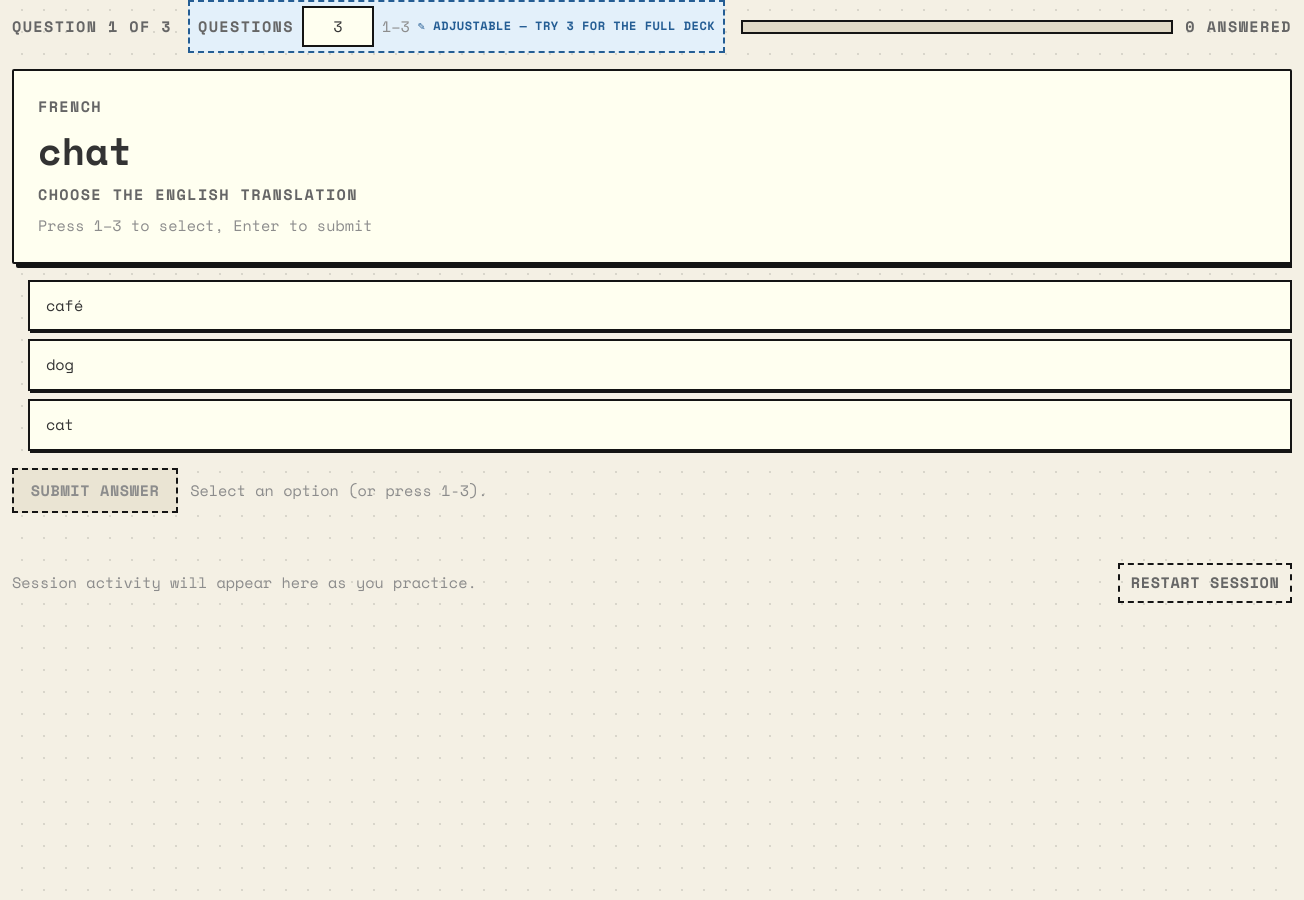
Test case: QuizMode › a wrong answer scores zero and reveals the correct option
The image size is (1304, 900).
Click the button "café" at (65, 305), box [28,280,1292,332]
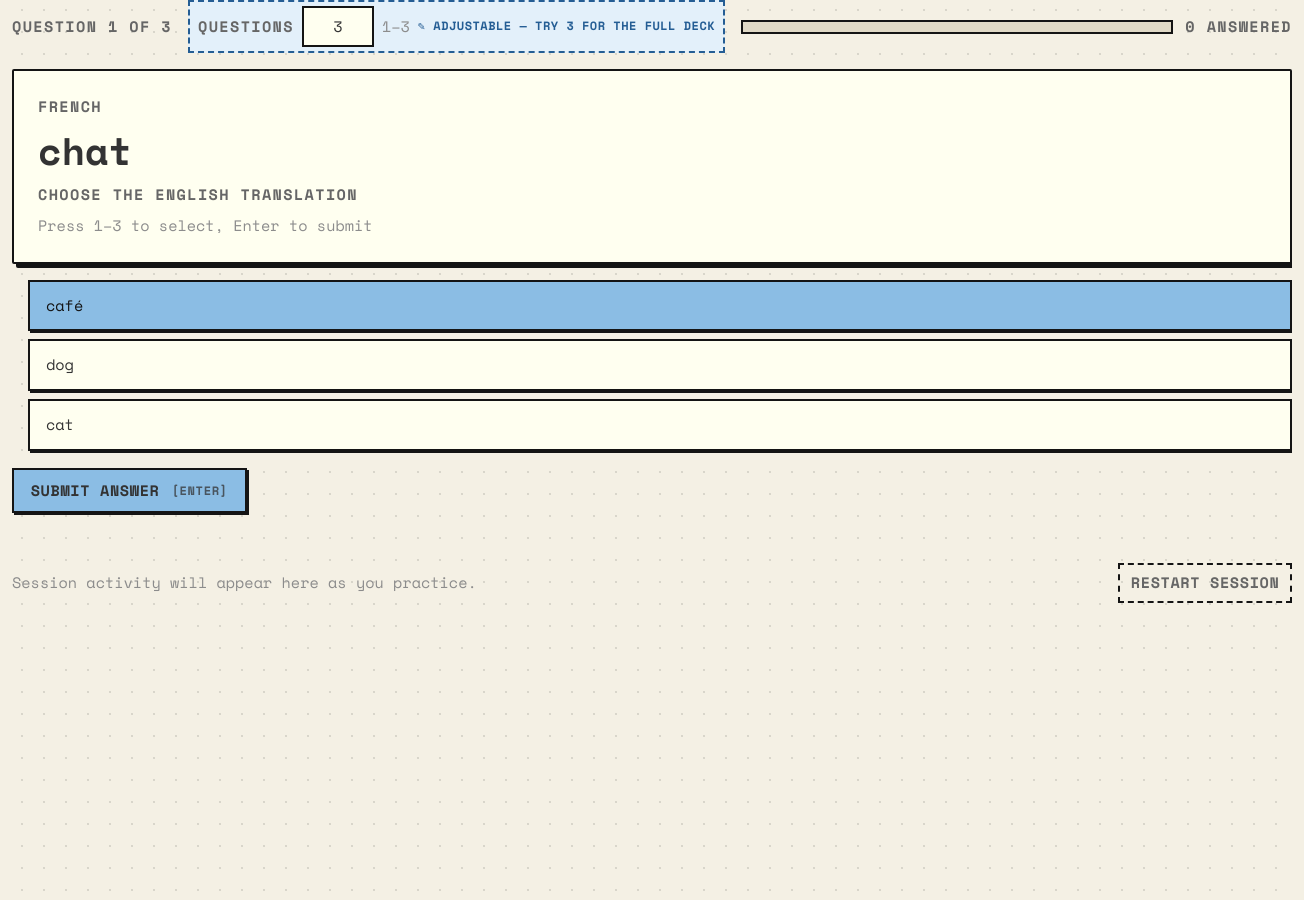
Click the button "Submit answer [Enter]" at (129, 491), box [12,468,246,513]
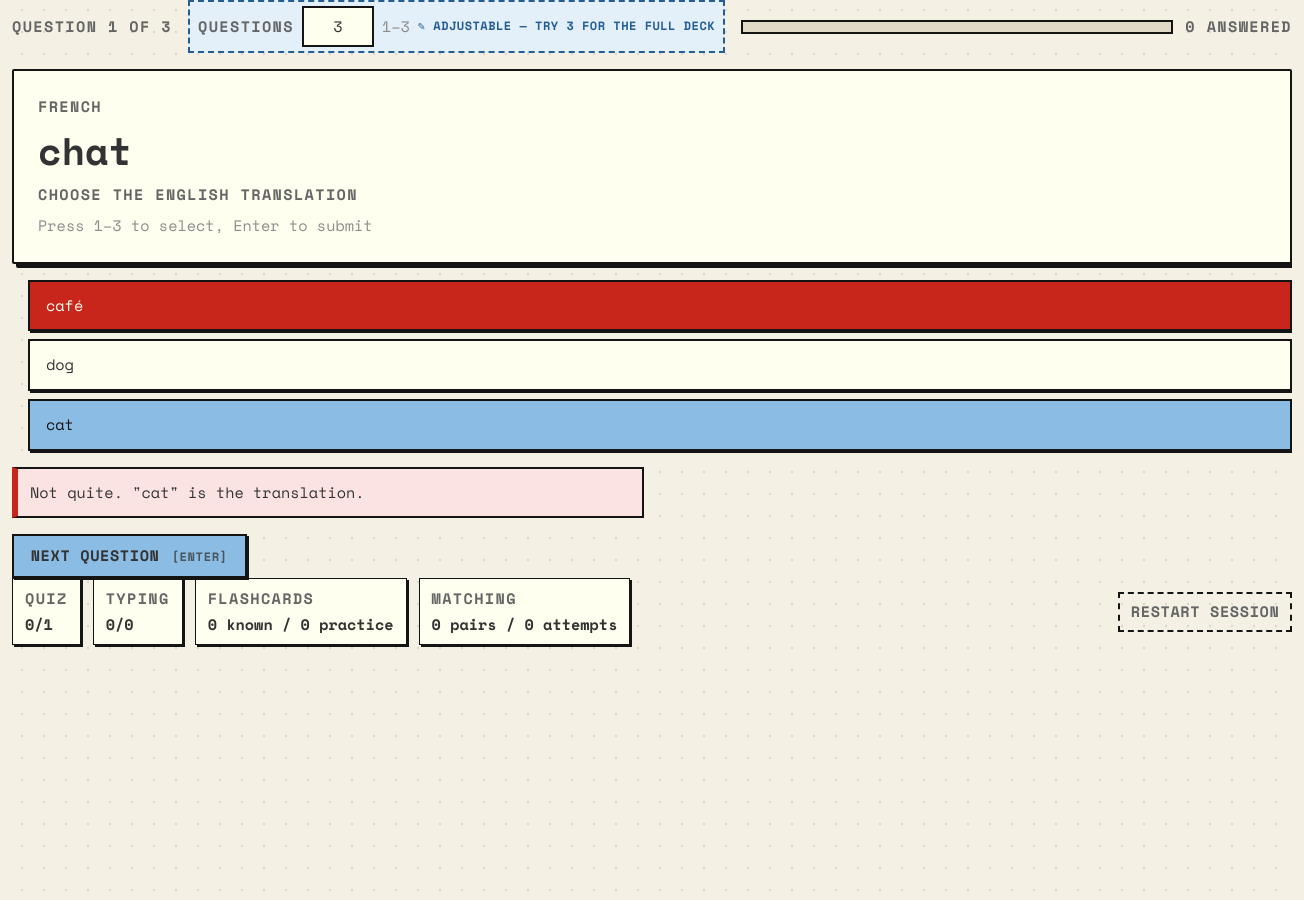
Expected: the element named "Session statistics" shows "0/1", [25,613,53,635]
